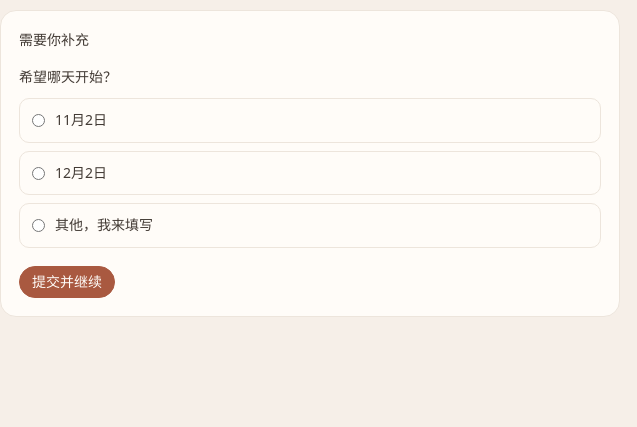
Test: failed submission retains selections and custom text
Click the radio button labelled "其他，我来填写" at (38, 226), box 32,219 -> 45,232
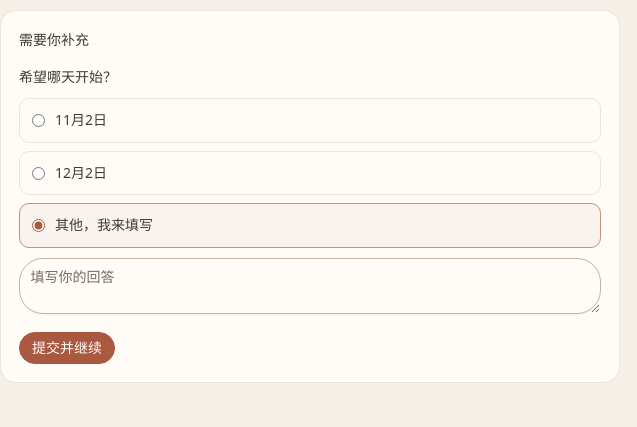
Type "稍后确定" into the text box named "希望哪天开始？：自己的回答" at (310, 286), box 19,258 -> 601,314
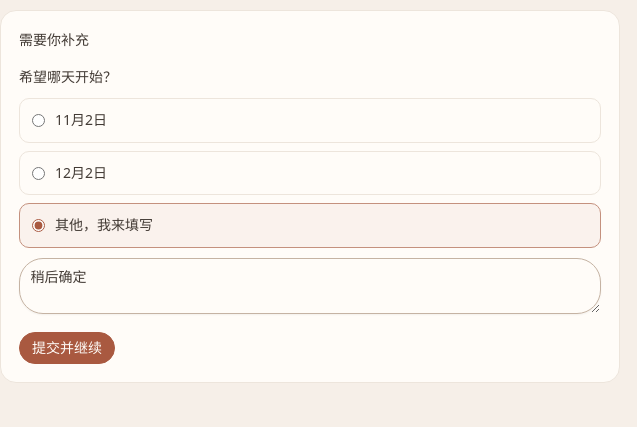
Click the button "提交并继续" at (67, 348), box 19,332 -> 115,364
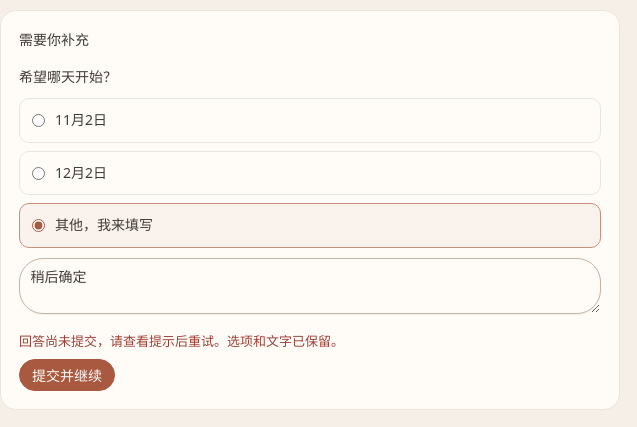
Result: the radio button labelled "其他，我来填写" is checked at 32,219 -> 45,232
Result: the message shows "已保留" at 19,332 -> 344,350
